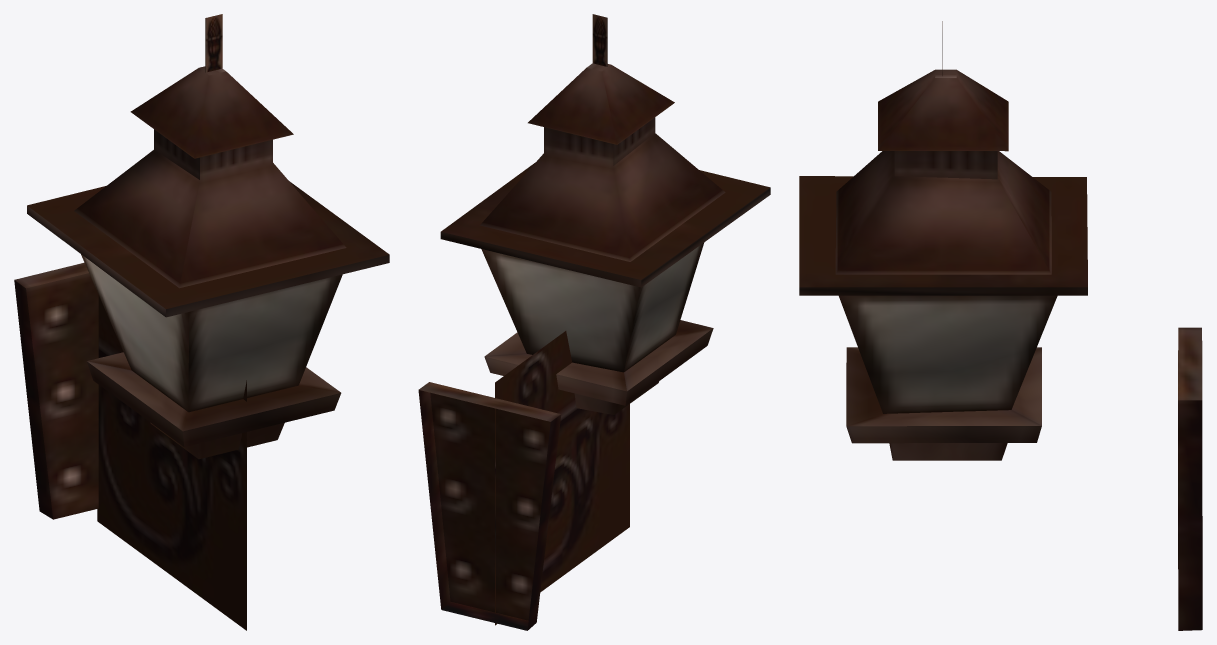
The model's file is lamp.fbx.
3 views of the same model, side by side, from view 1: azimuth 30°, elevation 25°; view 2: azimuth 150°, elevation 25°; view 3: azimuth 270°, elevation 25° (orthographic). The views are drawn at different scales.
Visible parts, largest first — view 1: LightRoof, LightGlass, LightSupport1, LightAttachment, LightGlass1, LightGlass2, LightTop; view 2: LightAttachment, LightRoof, LightGlass, LightSupport1, LightGlass3, LightGlass2, LightTop; view 3: LightRoof, LightGlass, LightGlass4, LightAttachment.
Boxes of the visible parts, x1=… form: LightRoof: x1=74, y1=66, x2=346, y2=288; LightGlass: x1=27, y1=181, x2=389, y2=459; LightSupport1: x1=97, y1=295, x2=246, y2=630; LightAttachment: x1=14, y1=262, x2=98, y2=519; LightGlass1: x1=188, y1=274, x2=342, y2=412; LightGlass2: x1=81, y1=254, x2=188, y2=411; LightTop: x1=205, y1=14, x2=222, y2=72; LightAttachment: x1=418, y1=382, x2=561, y2=630; LightRoof: x1=480, y1=63, x2=725, y2=261; LightGlass: x1=440, y1=162, x2=770, y2=414; LightSupport1: x1=495, y1=331, x2=629, y2=625; LightGlass3: x1=481, y1=249, x2=639, y2=372; LightGlass2: x1=624, y1=242, x2=704, y2=371; LightTop: x1=592, y1=14, x2=607, y2=66; LightRoof: x1=835, y1=69, x2=1051, y2=274; LightGlass: x1=799, y1=176, x2=1087, y2=460; LightGlass4: x1=839, y1=295, x2=1057, y2=413; LightAttachment: x1=1178, y1=327, x2=1202, y2=630.
Bounding box in the file's own units: 143 × 360 × 218.
Materials: 2 (2 with a texture image).
